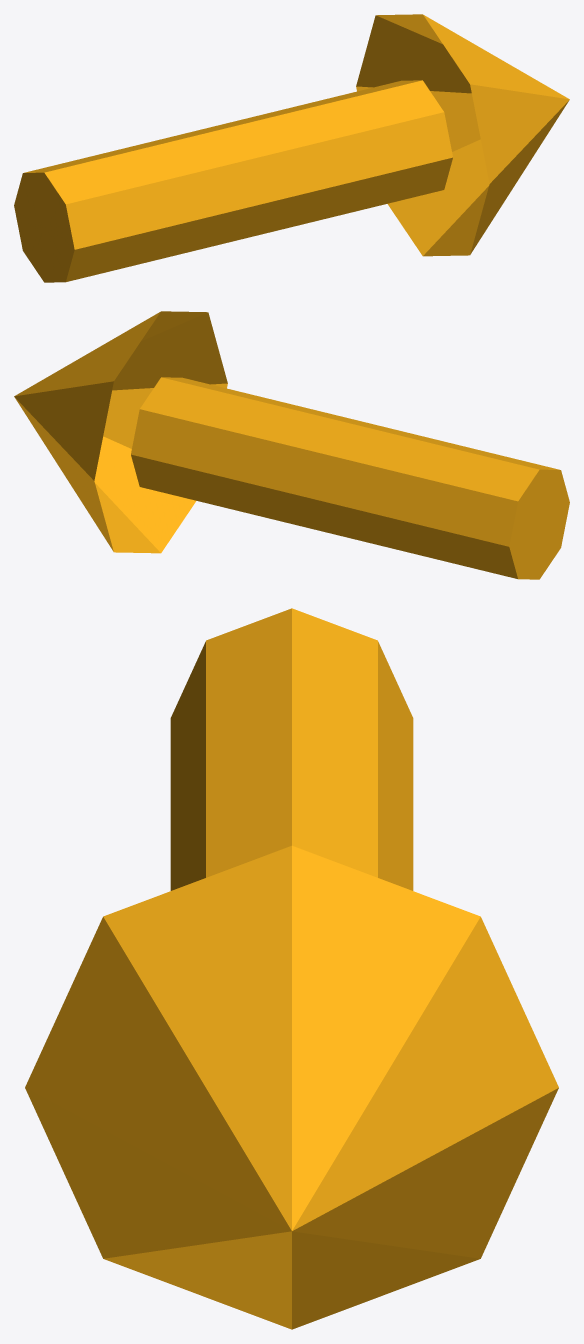
File: arrow.obj
3 renders of one model, top to bottom at view 1: azimuth 30°, elevation 25°; view 2: azimuth 150°, elevation 25°; view 3: azimuth 270°, elevation 25°, orthographic. The views are drawn at different scales.
Visible parts, largest first — view 1: WindArrow; view 2: WindArrow; view 3: WindArrow.
Boxes of the visible parts, x1,y1,x2,y2 form: WindArrow: (14, 14, 569, 282); WindArrow: (14, 311, 569, 579); WindArrow: (25, 608, 558, 1329).
Size of the model in its own units: 1 by 0.44 by 0.44.
Materials: 1 (1 with a texture image).
